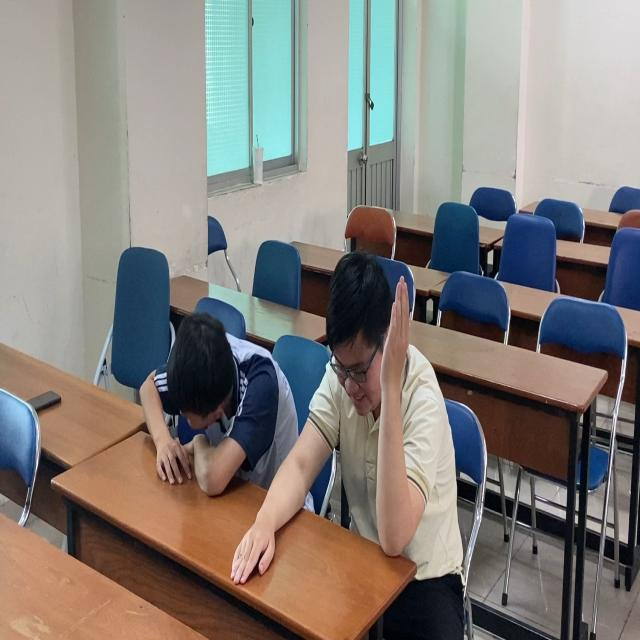raise_hand: (305, 245, 443, 568)
sleep: (129, 314, 301, 514)
